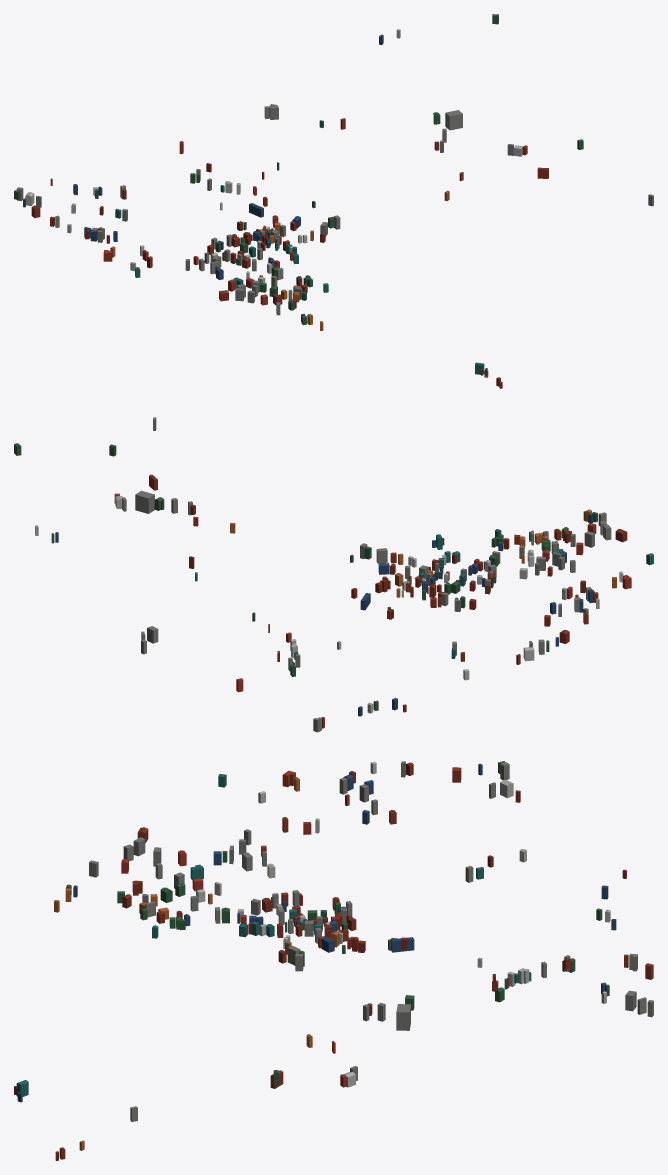
File: near-15-27365-14867.029be4e8.glb
3 renders of one model, top to bottom at view 1: azimuth 30°, elevation 25°; view 2: azimuth 150°, elevation 25°; view 3: azimuth 270°, elevation 25°, orthographic. The views are drawn at different scales.
Size of the model in its own units: 1175 by 474 by 996.
